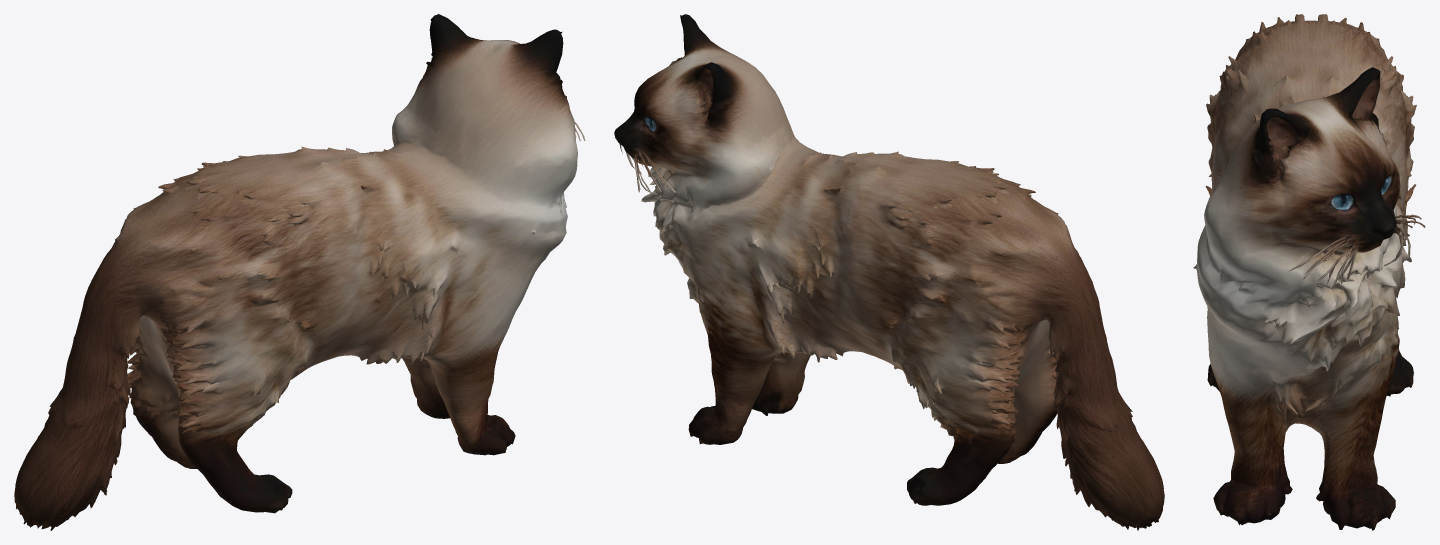
Rendered from cat-longhair-standing.glb.
The picture shows the model from 3 angles, left to right: view 1: azimuth 30°, elevation 25°; view 2: azimuth 150°, elevation 25°; view 3: azimuth 270°, elevation 25°; orthographic projection. The views are drawn at different scales.
Visible parts, largest first — view 1: tripo_node_69f7b254-bcf1-42c1-9fdf-c3cfe933a4c4; view 2: tripo_node_69f7b254-bcf1-42c1-9fdf-c3cfe933a4c4; view 3: tripo_node_69f7b254-bcf1-42c1-9fdf-c3cfe933a4c4.
Part boxes in pixels (x1,y1,x2,y2): tripo_node_69f7b254-bcf1-42c1-9fdf-c3cfe933a4c4: (14, 14, 585, 530); tripo_node_69f7b254-bcf1-42c1-9fdf-c3cfe933a4c4: (614, 14, 1164, 530); tripo_node_69f7b254-bcf1-42c1-9fdf-c3cfe933a4c4: (1193, 14, 1425, 530).
Bounding box in the file's own units: 0.5121 × 0.35 × 0.1629.
Materials: 1 (1 with a texture image).
